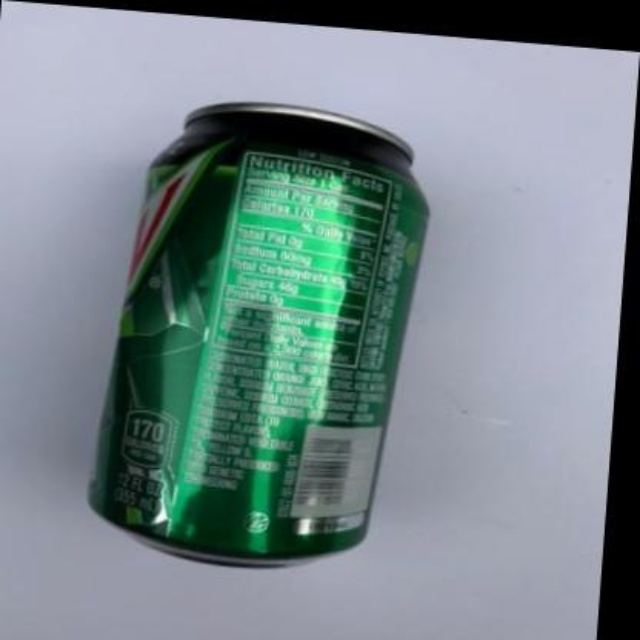trash: (89, 103, 426, 563)
